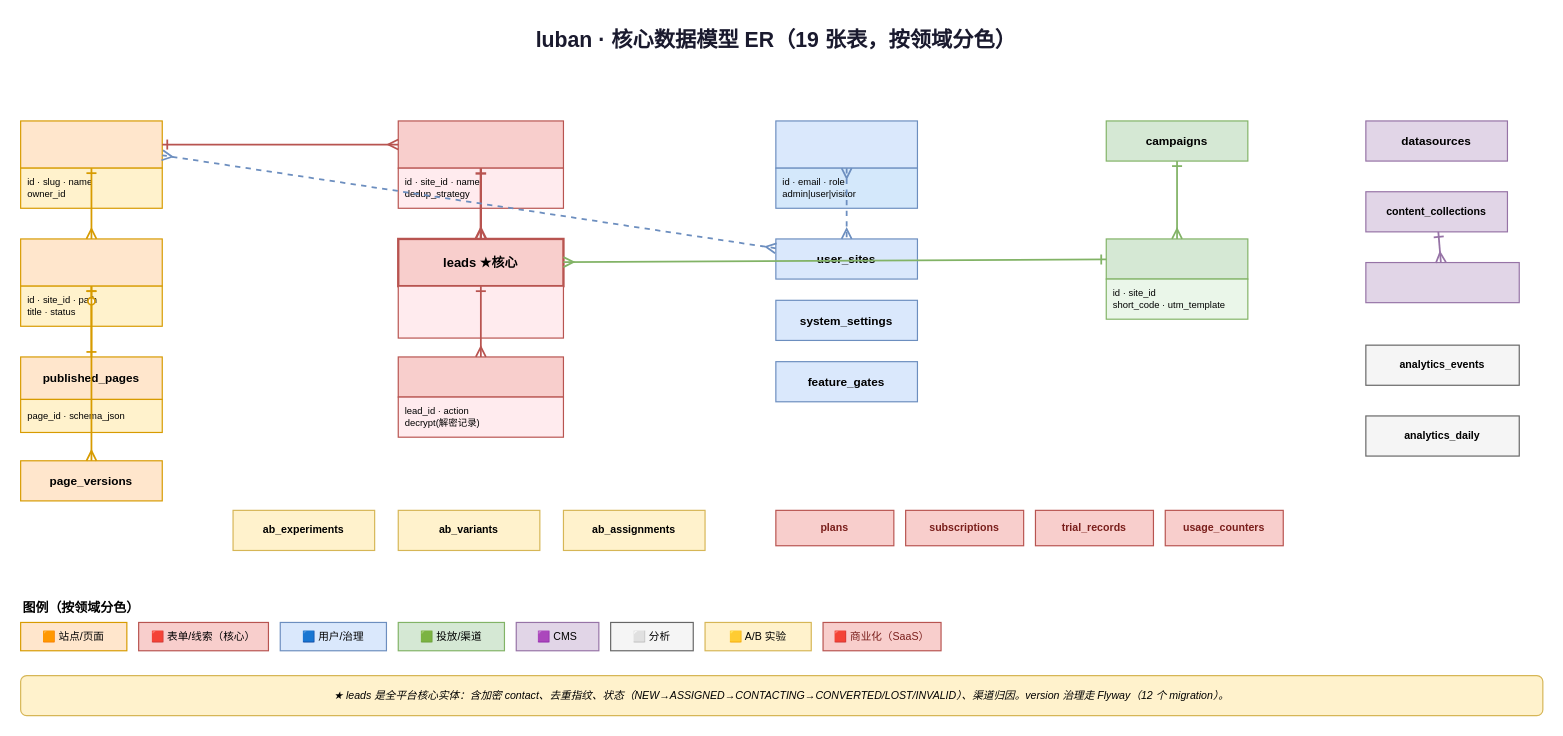
The diagram is 1563 pixels wide and 736 high, and some of its shapes have lost their labels. Each missing label, with the centre of its shape:
channels: the point at 1176,258
content_collection_items: the point at 1442,282
forms: the point at 480,144
id · form_id · site_id contact(加密) · status dedup_hash · channel_id: the point at 480,311
lead_audit_logs: the point at 480,376
pages: the point at 90,262
sites: the point at 90,144
users: the point at 846,144
